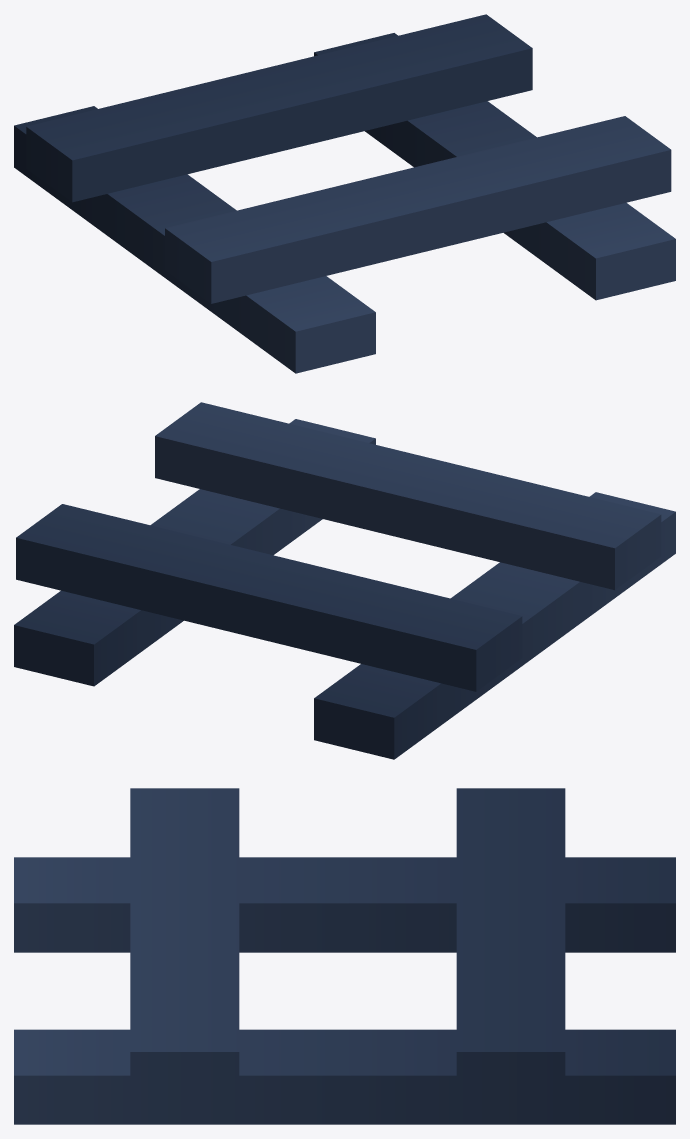
Rendered from Tangga Modular.fbx.
3 renders of one model, top to bottom at view 1: azimuth 30°, elevation 25°; view 2: azimuth 150°, elevation 25°; view 3: azimuth 270°, elevation 25°, orthographic. The views are drawn at different scales.
Parts seen in each view (by area): view 1: Modular Tangga; view 2: Modular Tangga; view 3: Modular Tangga.
Part boxes in pixels (bbox=[...]): Modular Tangga: bbox=[14, 14, 675, 373]; Modular Tangga: bbox=[14, 402, 675, 759]; Modular Tangga: bbox=[14, 788, 675, 1124].
Bounding box in the file's own units: 0.8732 × 0.1521 × 0.9259.
1 material, 1 textured.
